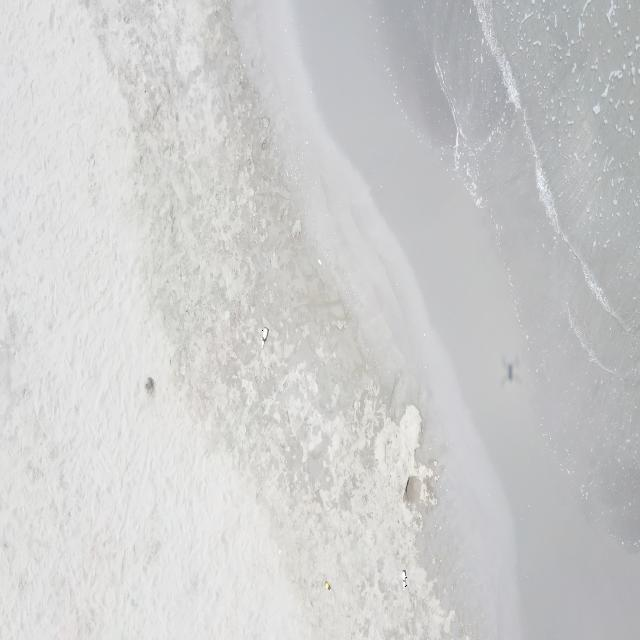glass: (261, 326, 270, 350), (402, 568, 407, 590), (324, 581, 332, 592)
